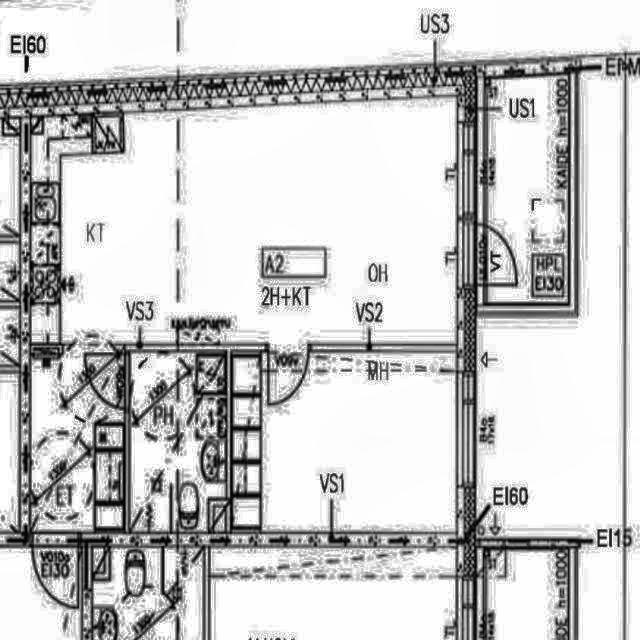room: (233, 352, 455, 532), (477, 78, 567, 303), (131, 352, 224, 532)
